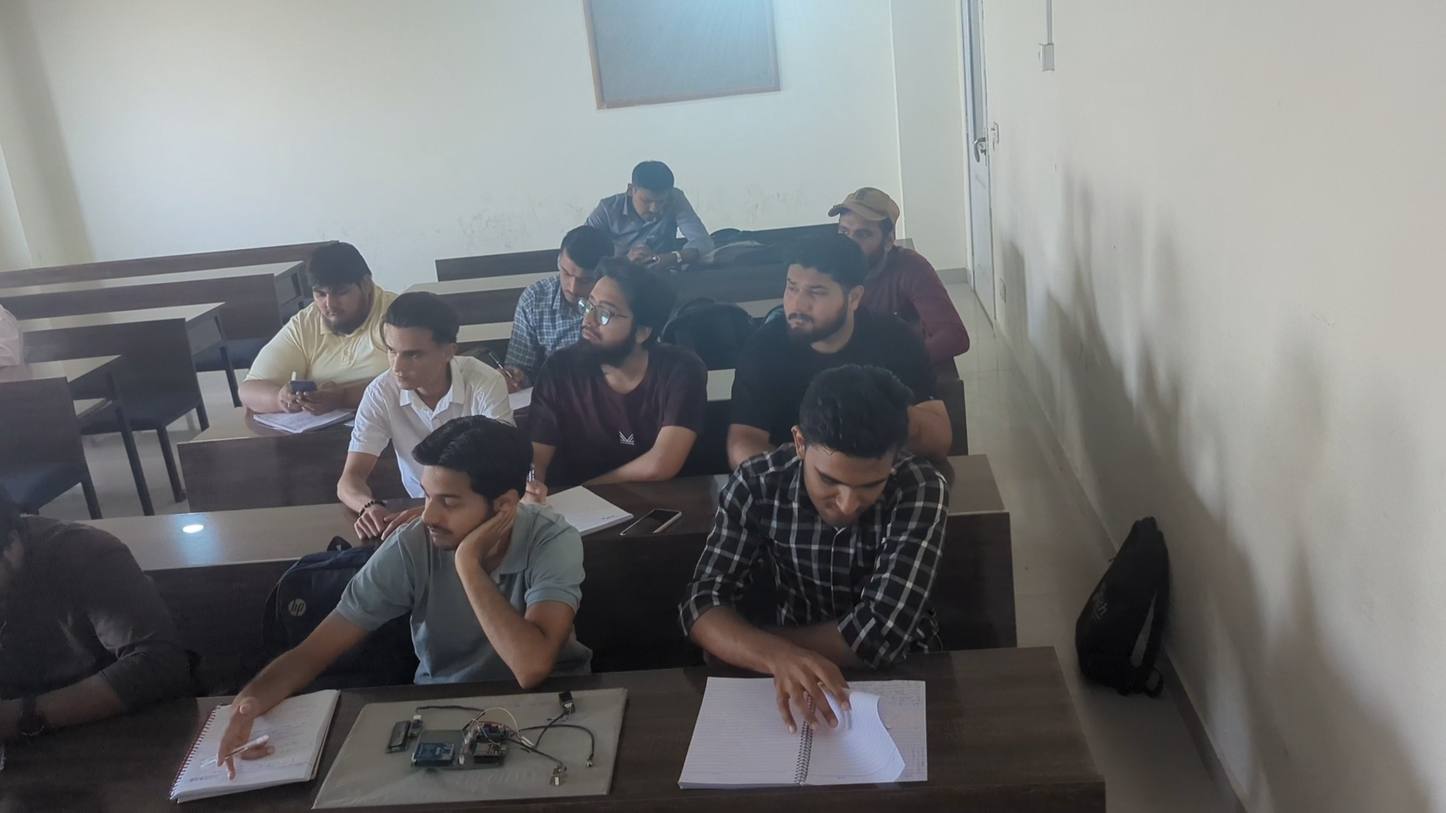look_forward: (561, 263, 690, 448), (767, 243, 950, 373), (359, 298, 498, 422), (828, 187, 925, 260)
read: (736, 372, 973, 805)
using_device: (259, 234, 369, 416), (599, 136, 698, 255)
write: (192, 419, 571, 795), (502, 226, 586, 397)
